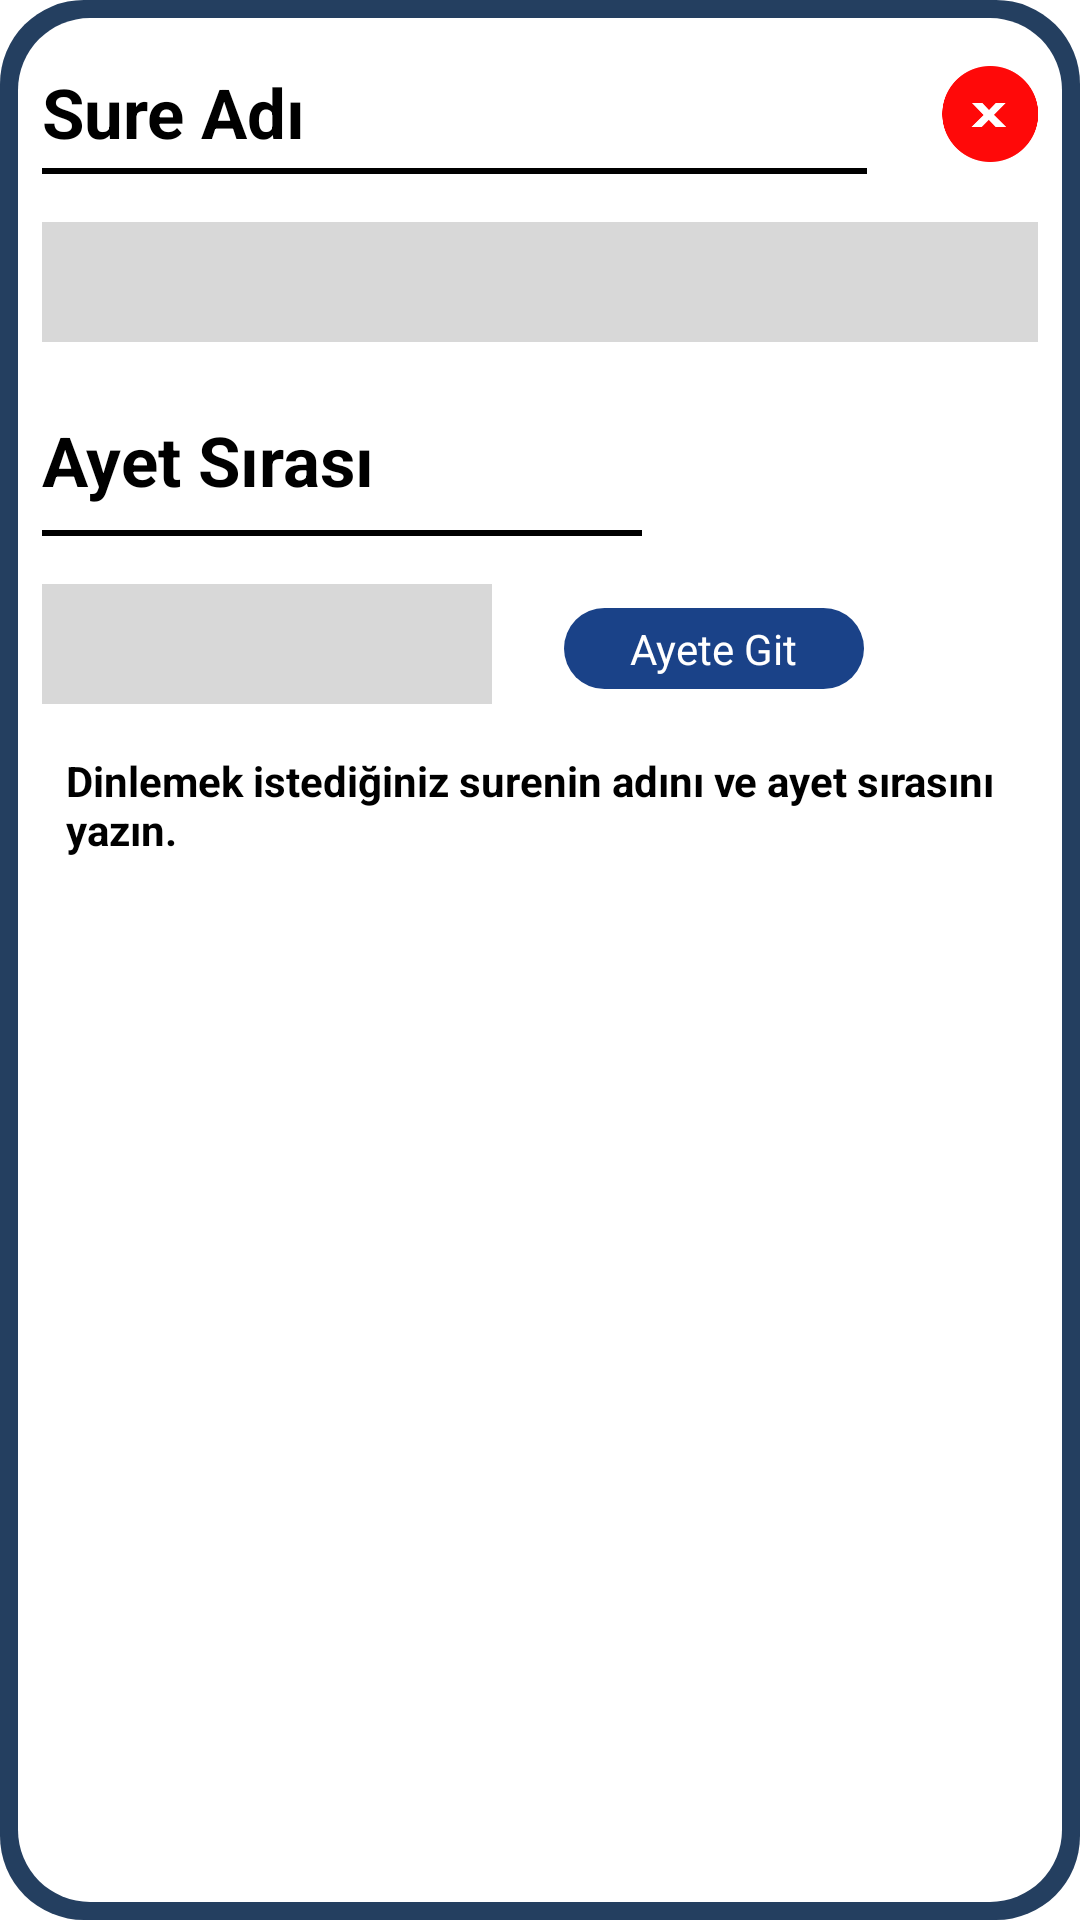

Screen size 1080w x 1920h. Icon name, then its box in pixels as (x1, y1, x2, y2):
close: (942, 66, 1038, 162)
